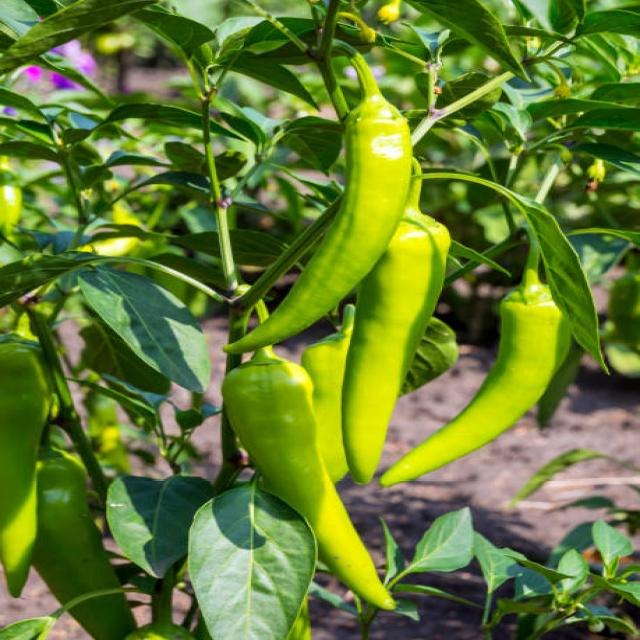Unripe: (216, 40, 421, 354), (369, 237, 576, 502), (214, 343, 402, 617), (337, 227, 449, 486), (35, 446, 151, 640), (2, 336, 53, 594)
